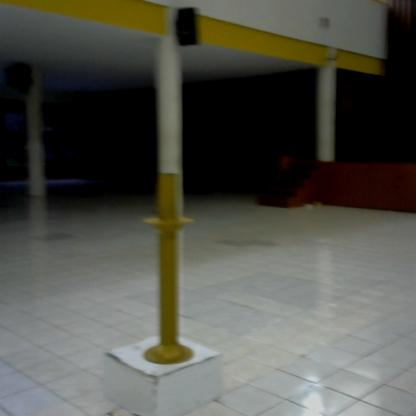pole: (135, 165, 201, 372)
